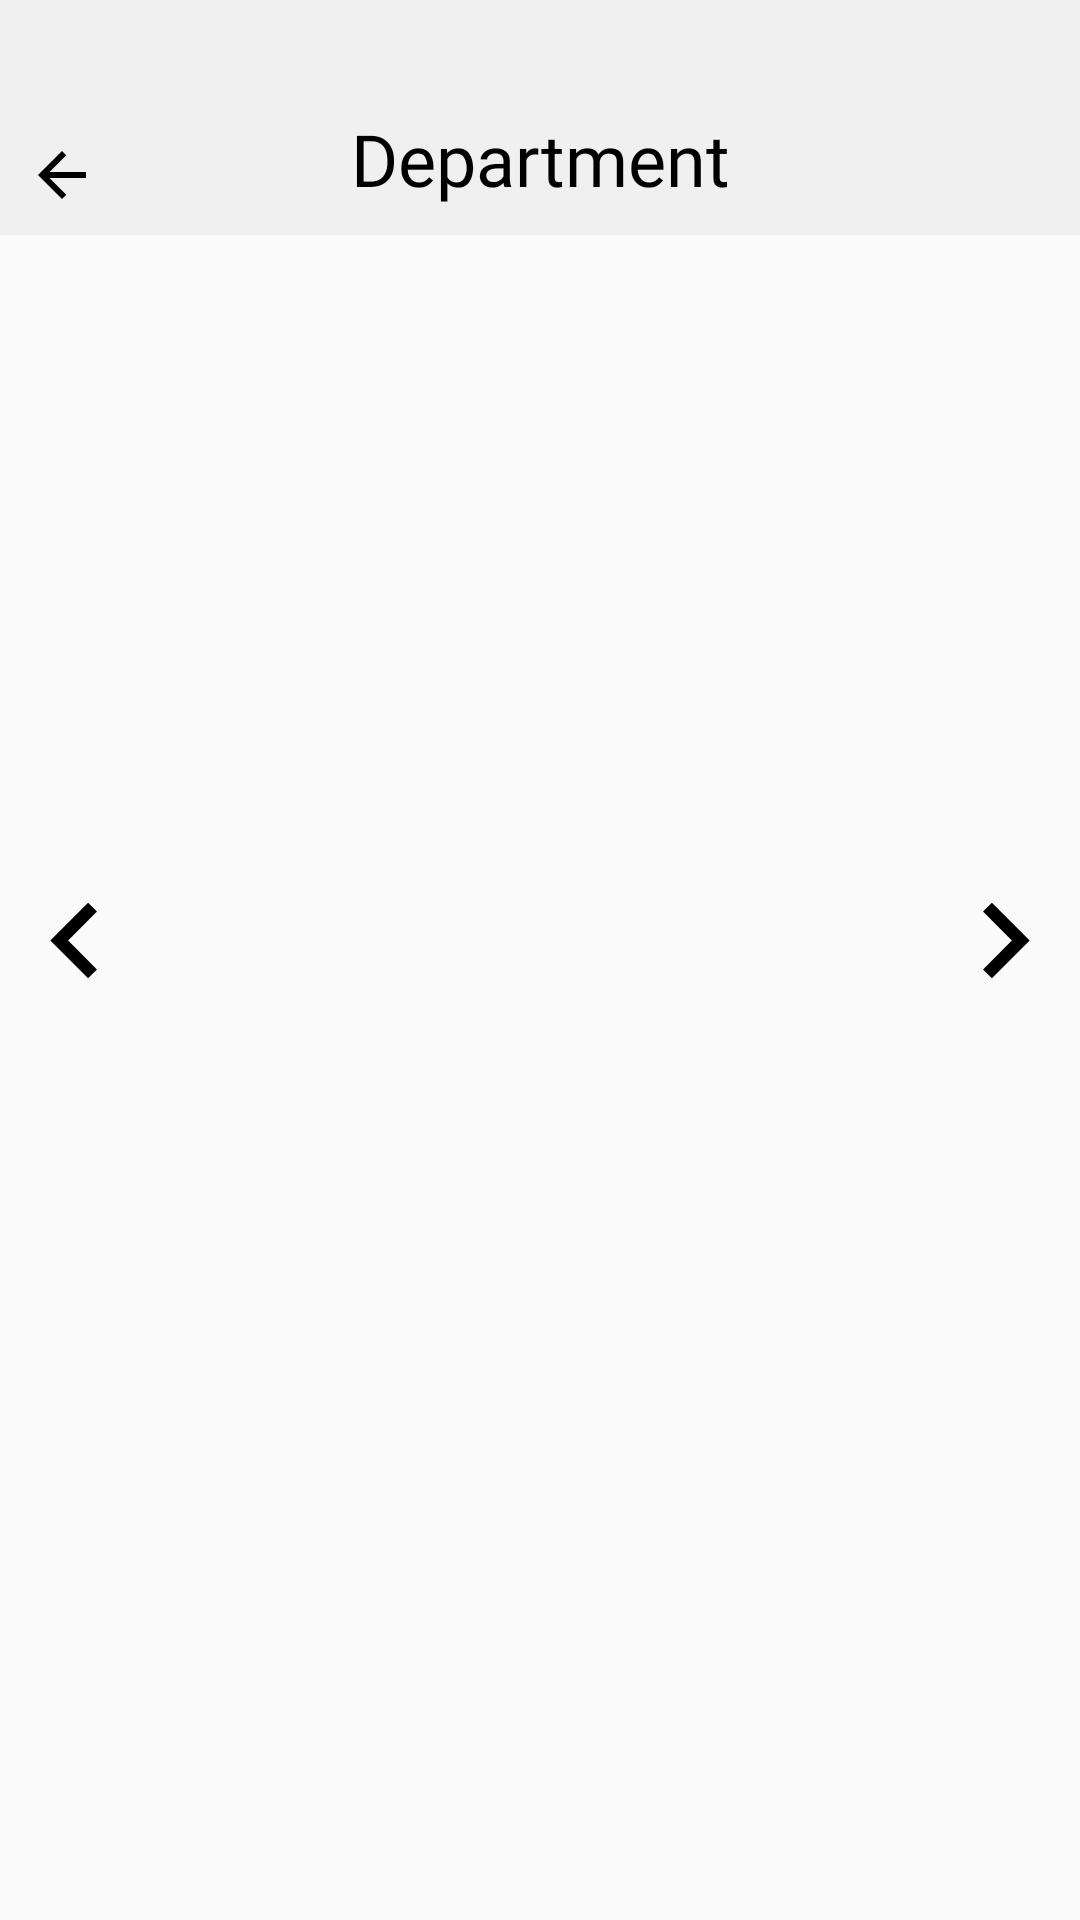

Where icons sit on this 1080px×1920px app screen, as (x1, y1, x2, y2):
back: (38, 151, 86, 199)
navigate before: (50, 903, 97, 978)
navigate next: (983, 903, 1030, 978)
